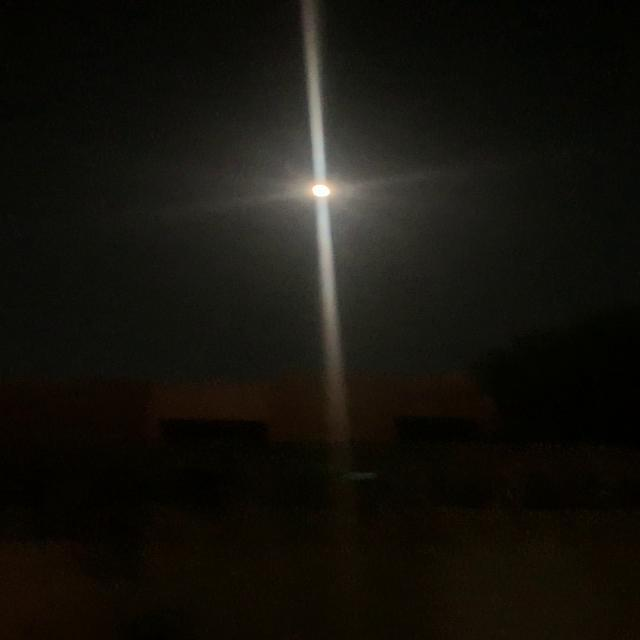moon: (287, 172, 351, 205)
